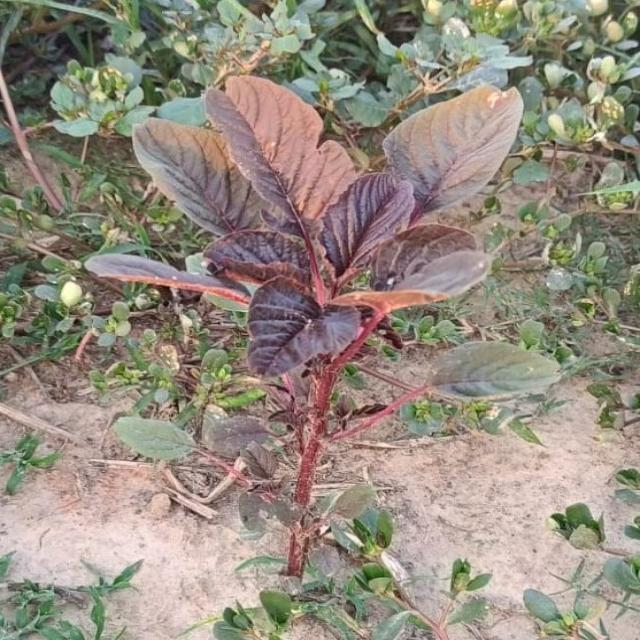plant: (86, 76, 559, 575), (201, 419, 271, 477), (116, 416, 201, 461)
